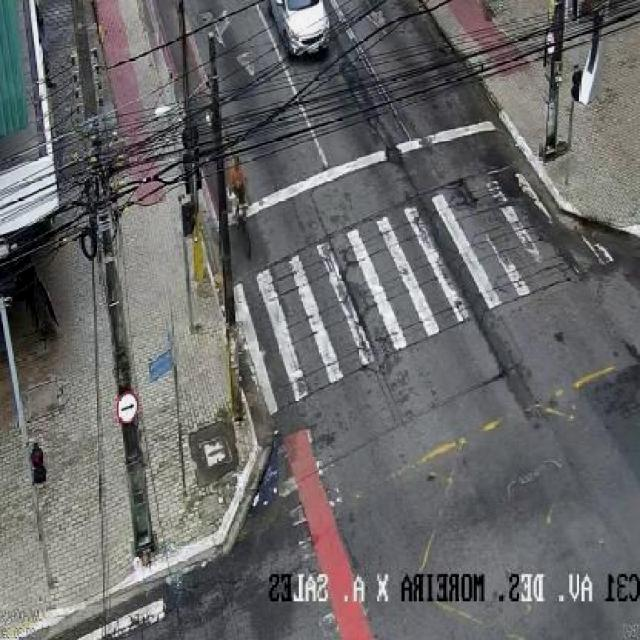Car: (264, 0, 333, 58)
